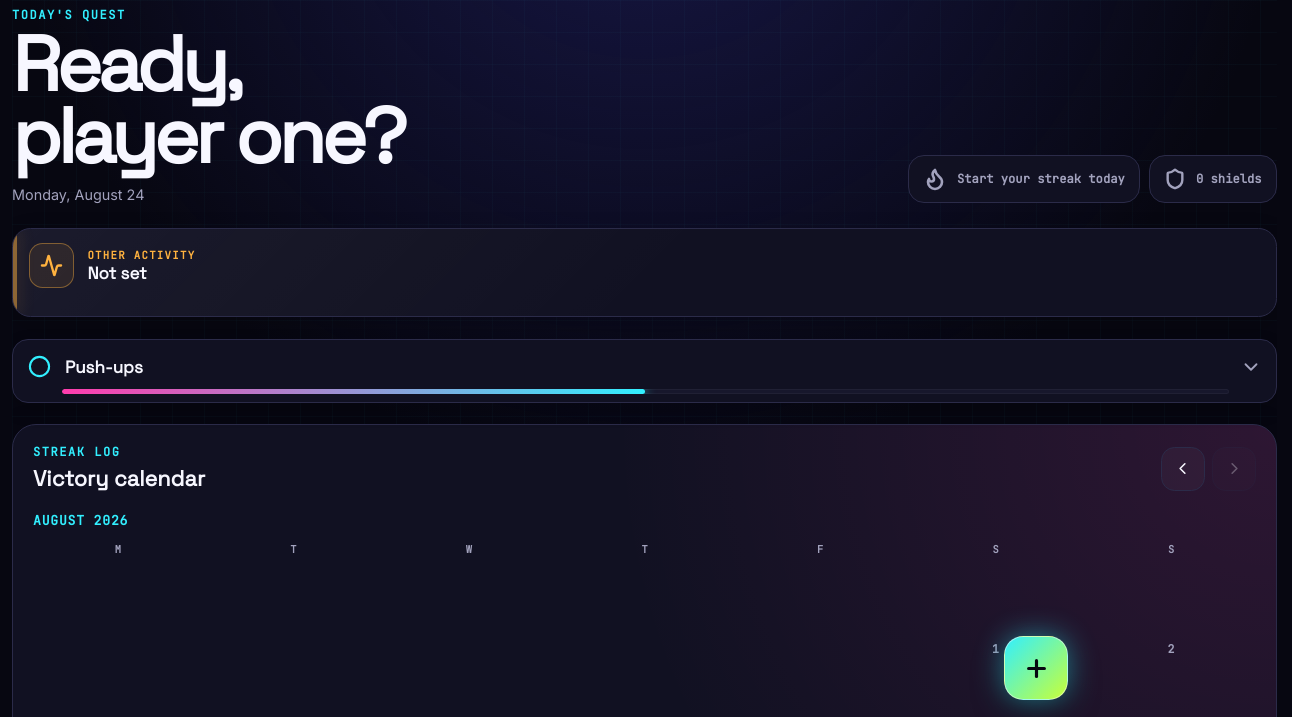
today’s arcade training dashboard › keeps the displayed snapshot when adding reps fails
Click the button with test id "exercise-toggle-push-ups" at point(104, 367), box [12, 338, 1277, 402]
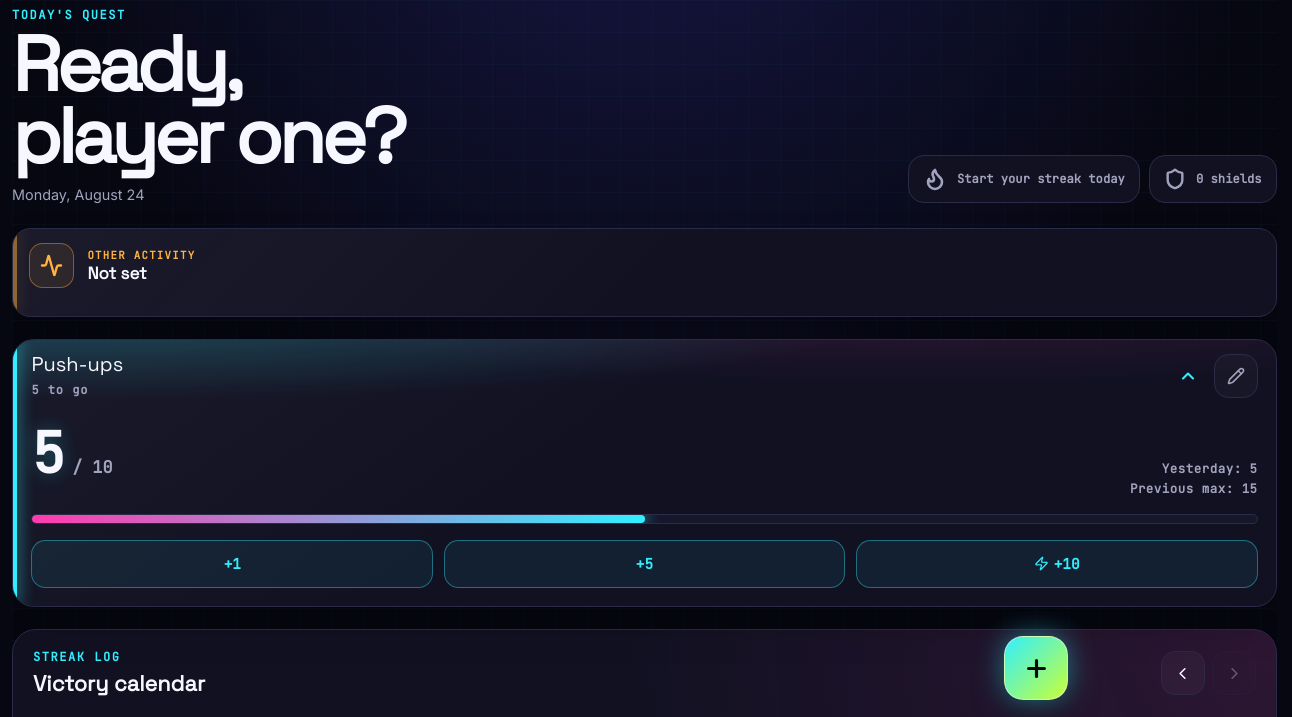
Click the button named "Add 5 reps to Push-ups" at point(644, 564), box [444, 540, 845, 588]
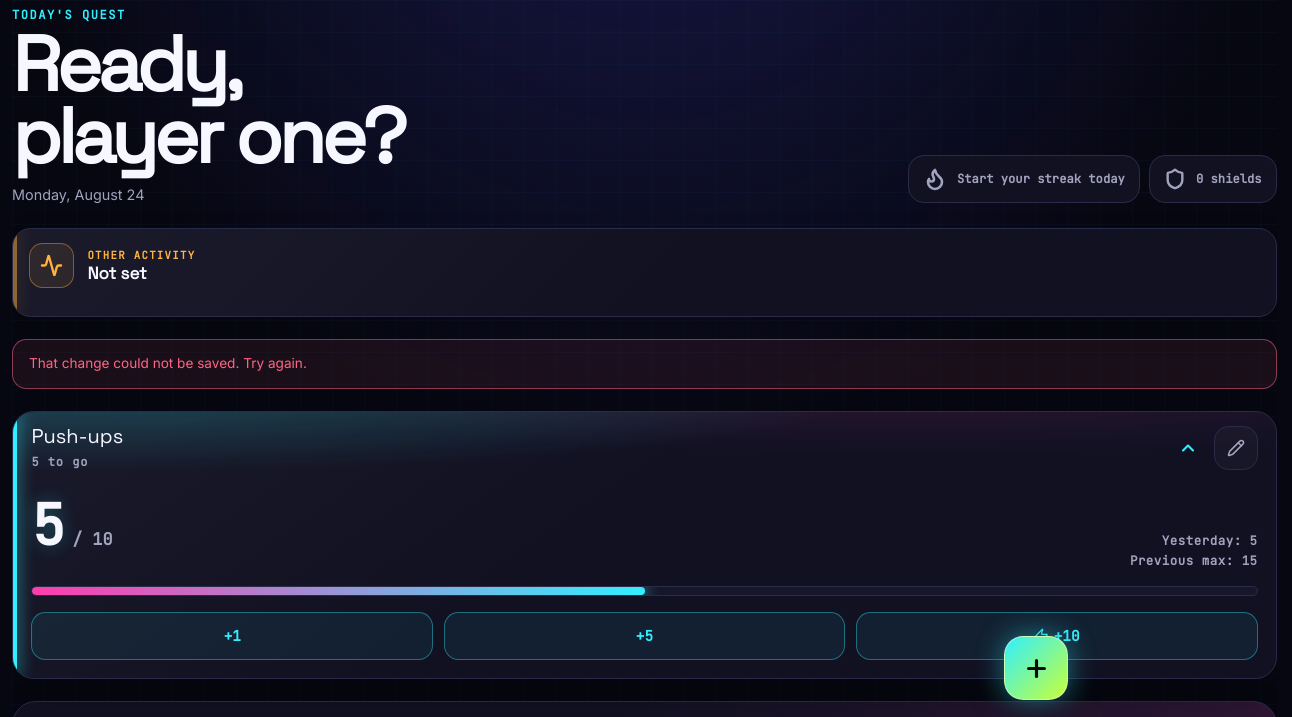
Expected: the text "5 to go" is shown, [31, 454, 88, 470]
Expected: the text "That change could not be saved" is shown, [29, 355, 307, 371]
